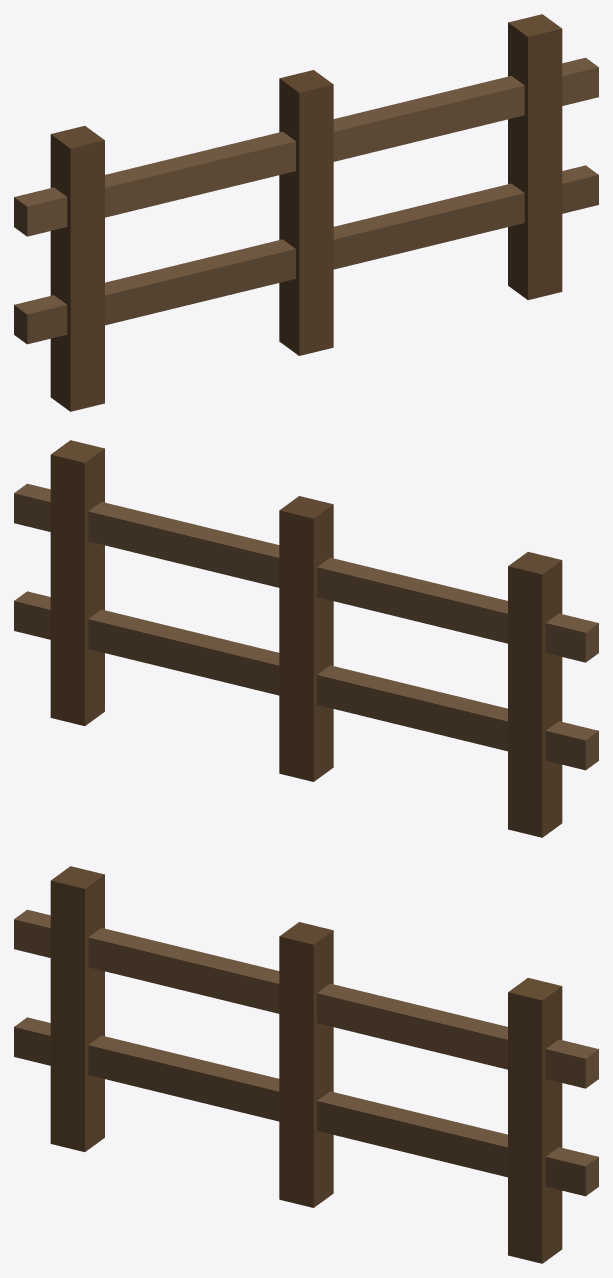
Rendered from p_fence.glb.
3 views of the same model, one above another, from view 1: azimuth 30°, elevation 25°; view 2: azimuth 150°, elevation 25°; view 3: azimuth 330°, elevation 25° (orthographic).
Visible parts, largest first — view 1: p_fence; view 2: p_fence; view 3: p_fence.
Part boxes in pixels (x1,y1,x2,y2): p_fence: (14, 14, 598, 411); p_fence: (14, 440, 598, 837); p_fence: (14, 866, 598, 1263).
Size of the model in its own units: 1 by 0.44 by 0.06.
